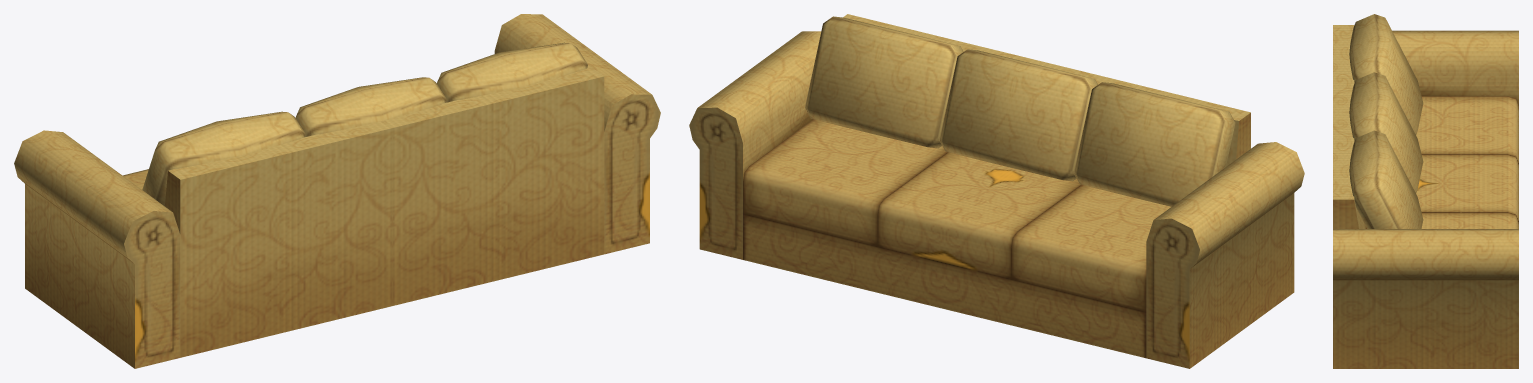
The model's file is FUR0110017.fbx.
3 renders of one model, left to right at view 1: azimuth 30°, elevation 25°; view 2: azimuth 150°, elevation 25°; view 3: azimuth 270°, elevation 25°, orthographic. The views are drawn at different scales.
Parts seen in each view (by area): view 1: smFUR0110017; view 2: smFUR0110017; view 3: smFUR0110017.
Boxes of the visible parts, <box> form: smFUR0110017: <box>14,14,660,368</box>; smFUR0110017: <box>689,14,1304,368</box>; smFUR0110017: <box>1333,14,1518,368</box>.
Size of the model in its own units: 359 by 126 by 127.
1 material, 1 textured.
